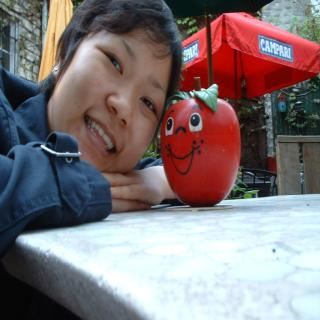tomato: (158, 76, 240, 206)
